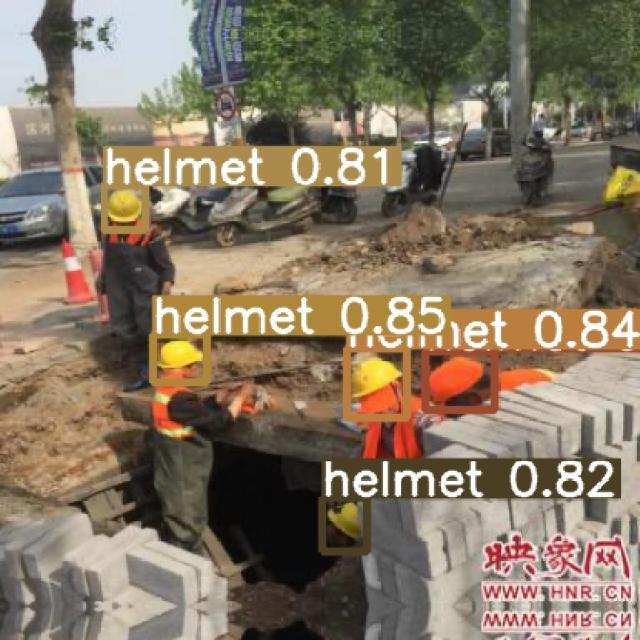Helmet: (350, 358, 402, 399), (156, 340, 203, 369), (106, 189, 141, 223)
